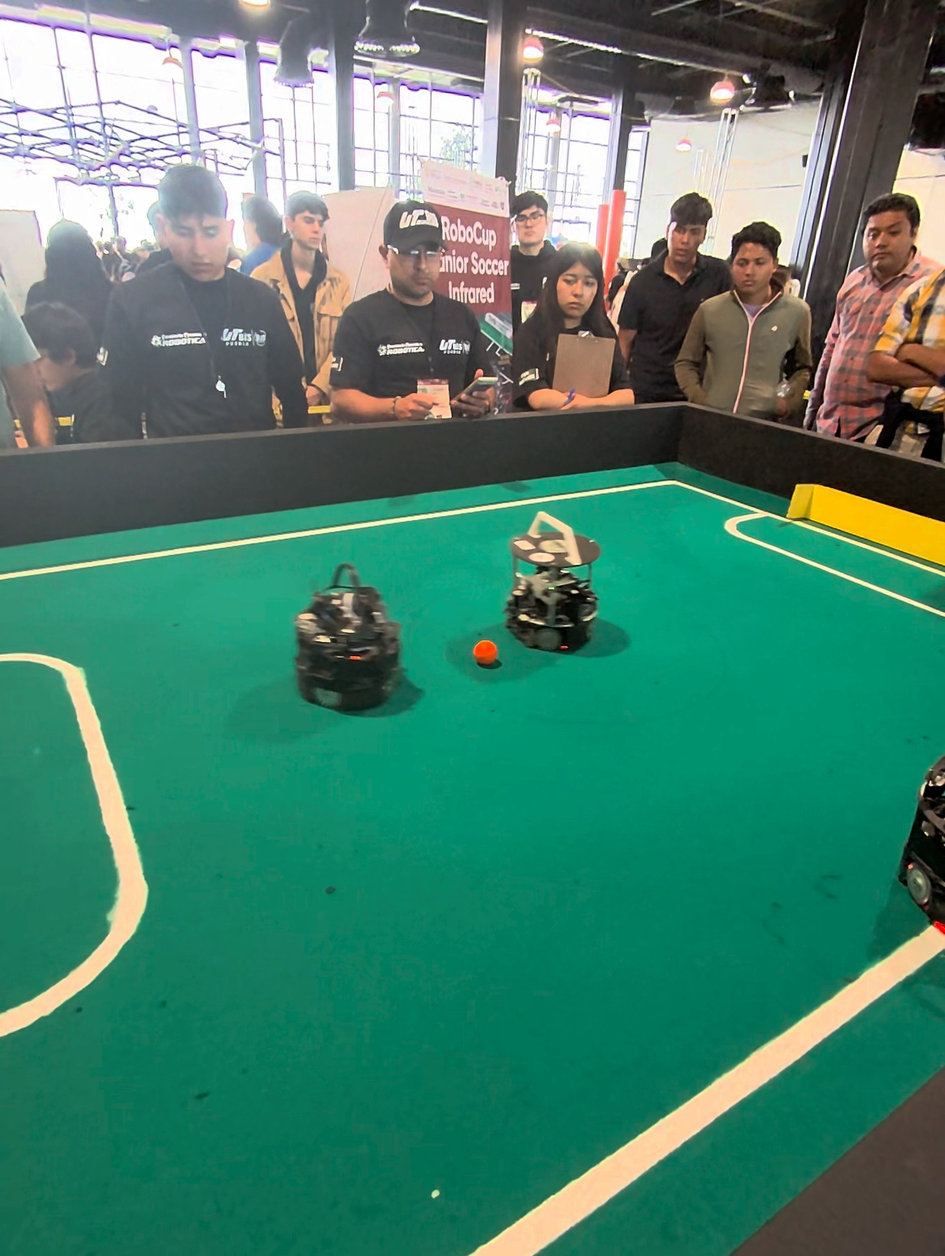Robot: (290, 562, 405, 721), (500, 510, 600, 663), (896, 691, 945, 953)
pelota: (473, 638, 500, 666)
